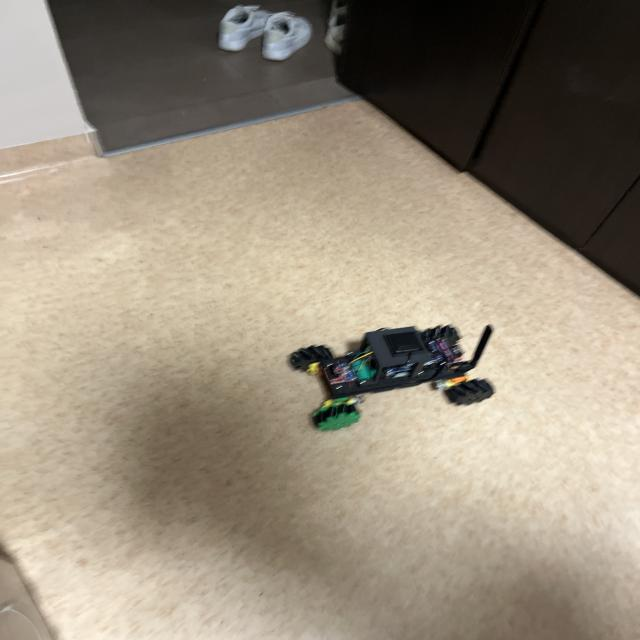robot: (288, 325, 491, 431)
